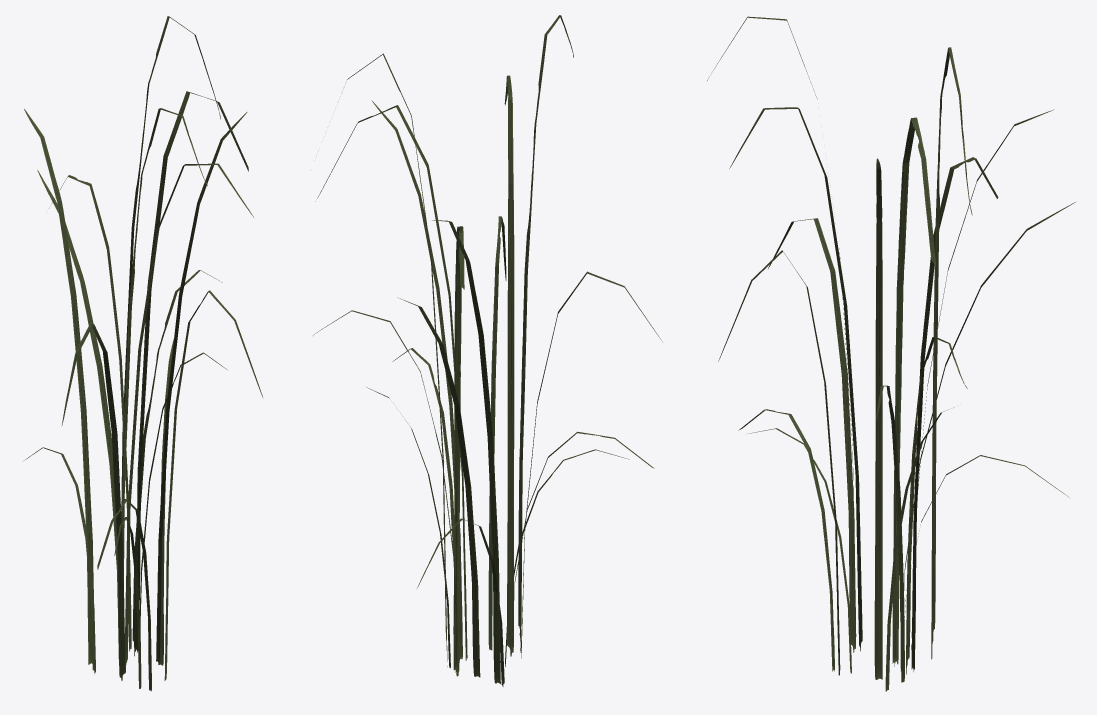
Rendered from wild_upright_a.glb.
3 views of the same model, side by side, from view 1: azimuth 30°, elevation 25°; view 2: azimuth 150°, elevation 25°; view 3: azimuth 270°, elevation 25° (orthographic). The views are drawn at different scales.
Parts seen in each view (by area): view 1: wild_upright_a; view 2: wild_upright_a; view 3: wild_upright_a.
Part boxes in pixels (x1=…): wild_upright_a: x1=24, y1=16, x2=263, y2=691; wild_upright_a: x1=313, y1=15, x2=662, y2=686; wild_upright_a: x1=707, y1=16, x2=1075, y2=691.
Bounding box in the file's own units: 0.2231 × 0.4764 × 0.2469.
1 material, 1 textured.
